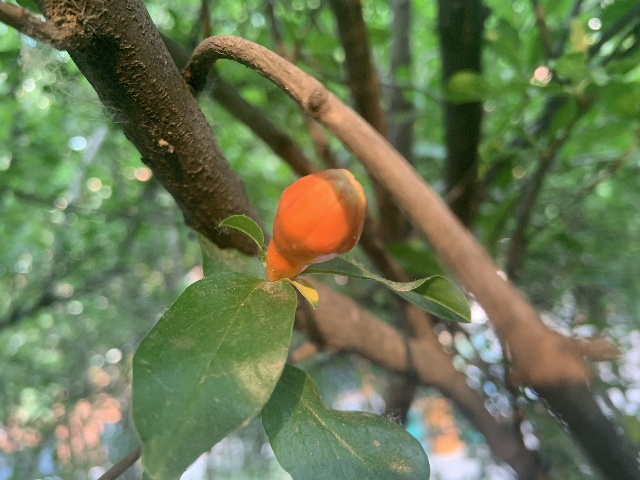bud: (267, 169, 366, 282)
